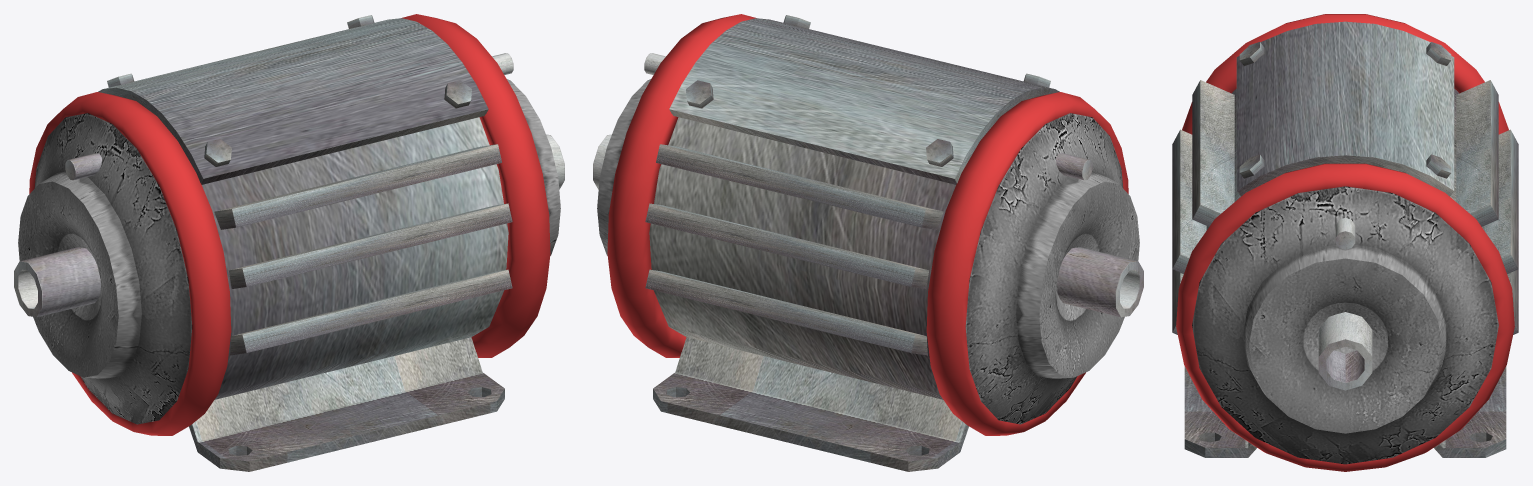
The model's file is static.fbx.
3 views of the same model, side by side, from view 1: azimuth 30°, elevation 25°; view 2: azimuth 150°, elevation 25°; view 3: azimuth 270°, elevation 25° (orthographic). The views are drawn at different scales.
Parts seen in each view (by area): view 1: Cylinder, Disc, Sweep, Torus, Cube, Cube_2, Cube_3, Cube_4, Tube, Cylinder_2, Cylinder_1; view 2: Cylinder, Disc, Sweep, Torus, Cube, Cube_2, Cube_3, Cube_4, Tube, Cylinder_2, Cylinder_1; view 3: Disc, Sweep, Torus, Cube_2, Cube_3, Cube, Tube, Cylinder_2, Cube_4, Cylinder, Cylinder_1, Cylinder_3.
Part boxes in pixels (box(x1,y1,x2,y2)): Cylinder: box(202, 117, 508, 399); Disc: box(18, 79, 560, 424); Sweep: box(98, 18, 488, 184); Torus: box(29, 14, 550, 435); Cube: box(189, 337, 504, 471); Cube_2: box(214, 144, 501, 229); Cube_3: box(229, 203, 512, 288); Cube_4: box(230, 269, 512, 355); Tube: box(14, 134, 564, 317); Cylinder_2: box(107, 15, 471, 166); Cylinder_1: box(65, 53, 513, 180); Cylinder: box(649, 117, 955, 399); Disc: box(597, 79, 1139, 424); Sweep: box(669, 18, 1059, 184); Torus: box(607, 14, 1128, 435); Cube: box(653, 337, 968, 471); Cube_2: box(656, 144, 943, 229); Cube_3: box(645, 203, 928, 288); Cube_4: box(645, 269, 927, 355); Tube: box(593, 134, 1143, 317); Cylinder_2: box(686, 15, 1050, 166); Cylinder_1: box(644, 53, 1092, 180); Disc: box(1192, 186, 1498, 464); Sweep: box(1236, 21, 1454, 196); Torus: box(1176, 14, 1514, 471); Cube_2: box(1192, 80, 1498, 226); Cube_3: box(1172, 129, 1518, 273); Cube: box(1184, 366, 1506, 457); Tube: box(1318, 312, 1372, 390); Cylinder_2: box(1239, 42, 1451, 178); Cube_4: box(1172, 269, 1518, 334); Cylinder: box(1206, 89, 1484, 229); Cylinder_1: box(1335, 217, 1355, 249); Cylinder_3: box(1198, 432, 1492, 442).
Size of the model in its own units: 95.08 by 55.67 by 56.79.
Materials: 4 (4 with a texture image).
